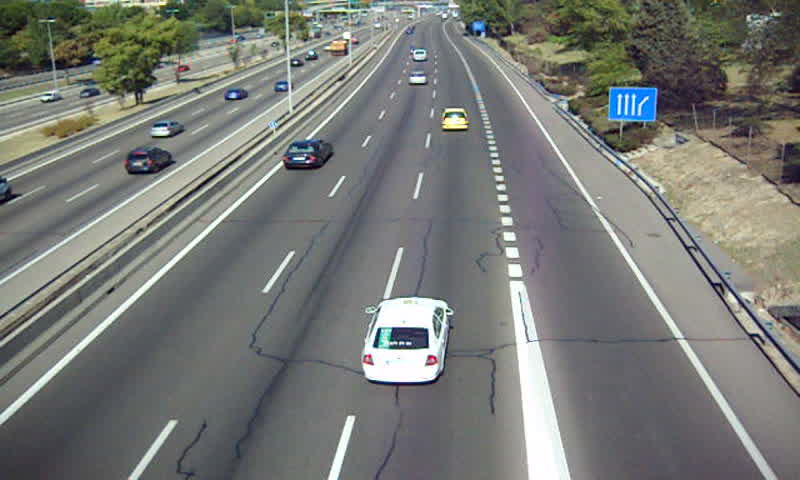car: (362, 297, 454, 382), (280, 141, 330, 167), (441, 108, 469, 133), (409, 70, 428, 86)
